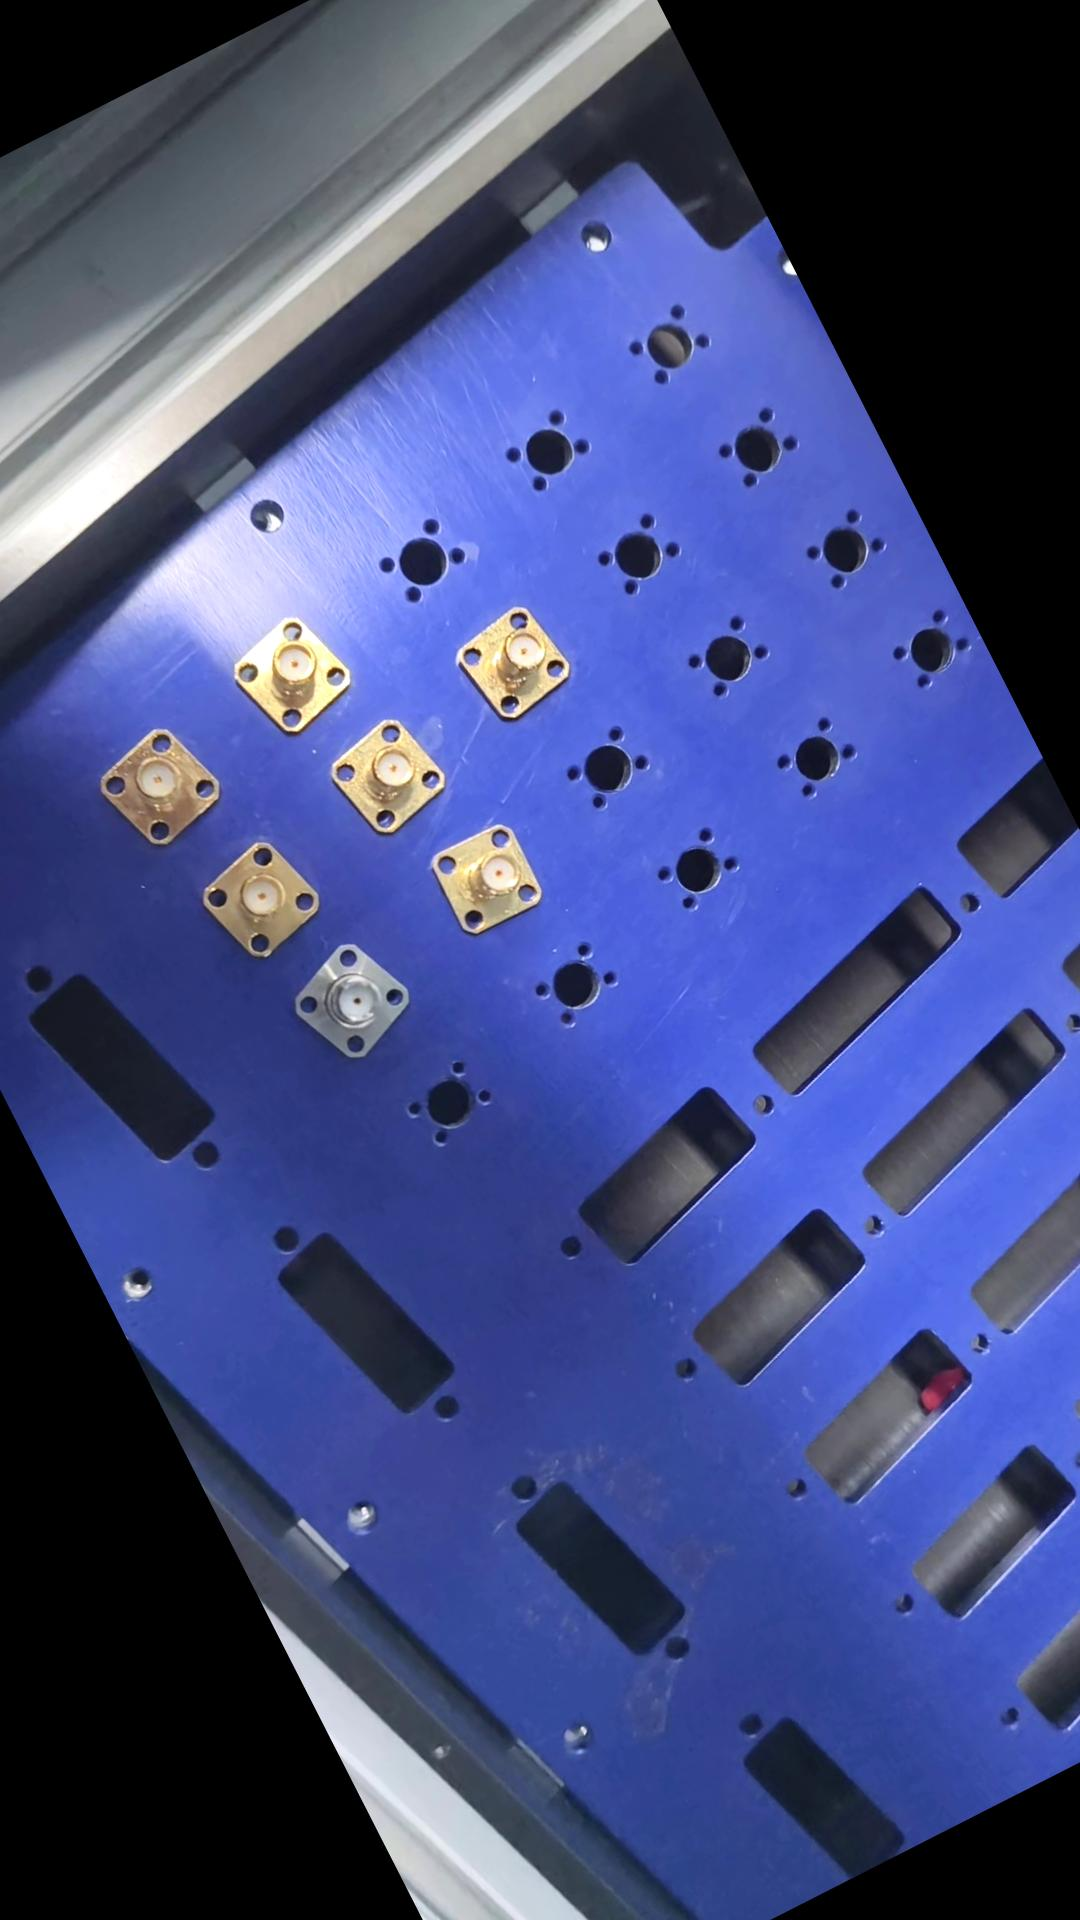SMA: (84, 712, 241, 864), (278, 924, 433, 1072), (222, 596, 372, 742), (193, 825, 340, 968), (417, 808, 562, 951), (319, 705, 465, 845), (448, 592, 587, 735)
